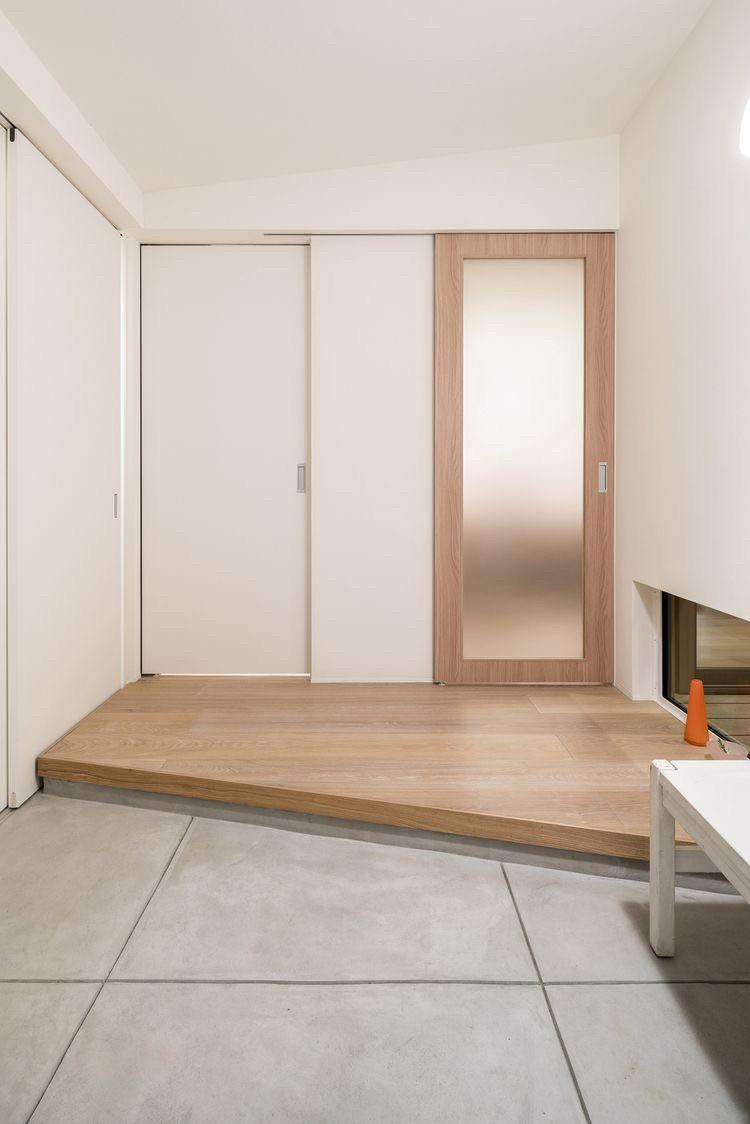floor: (0, 786, 749, 1123)
safe: (37, 675, 704, 837)
